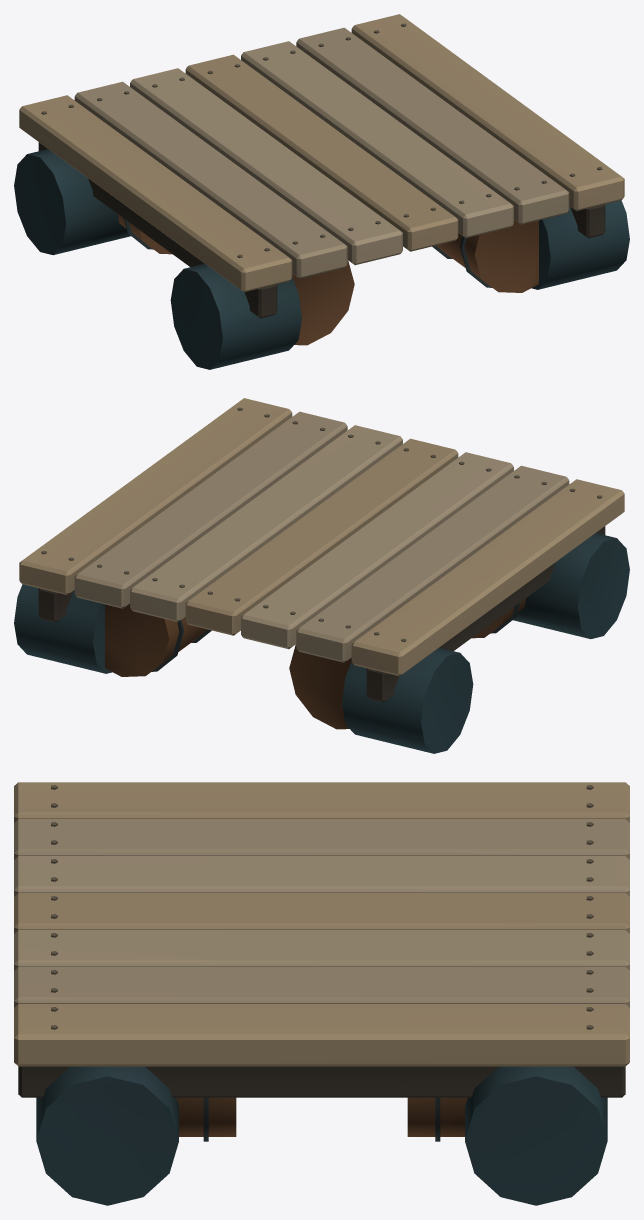
Rendered from floor.glb.
3 renders of one model, top to bottom at view 1: azimuth 30°, elevation 25°; view 2: azimuth 150°, elevation 25°; view 3: azimuth 270°, elevation 25°, orthographic. The views are drawn at different scales.
Parts seen in each view (by area): view 1: floor; view 2: floor; view 3: floor.
Part boxes in pixels (x1,y1,x2,y2): floor: [14, 14, 629, 369]; floor: [14, 398, 629, 753]; floor: [14, 782, 629, 1205].
Size of the model in its own units: 3.6 by 1.01 by 3.45.
